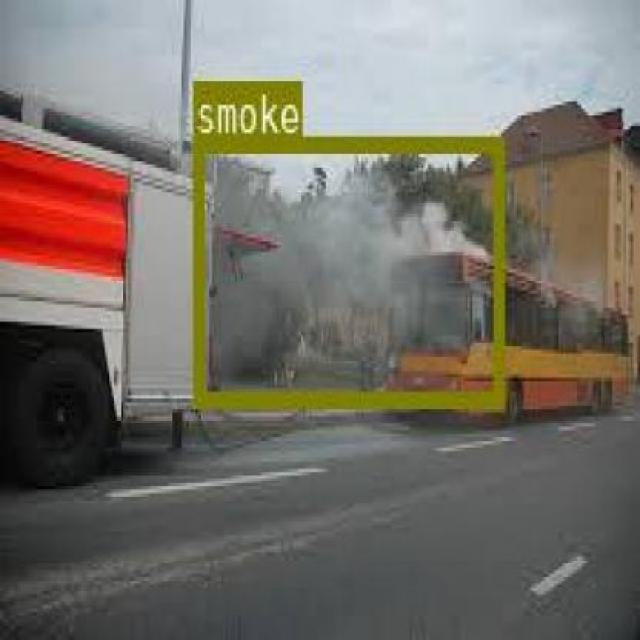Smoke: (192, 136, 502, 404)
